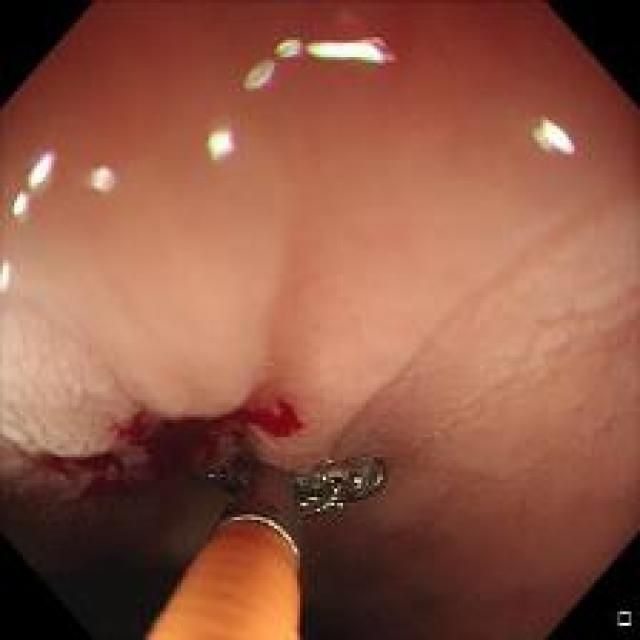color misalignment: (292, 34, 406, 62), (531, 115, 579, 160), (240, 60, 275, 98), (85, 160, 119, 192), (204, 122, 232, 158), (28, 149, 56, 184), (269, 34, 300, 62), (10, 189, 34, 221), (1, 258, 16, 292), (612, 604, 630, 631)
contrast: (12, 448, 418, 636)
instrument: (160, 440, 381, 630)
specularity: (288, 38, 386, 62), (541, 121, 574, 154), (88, 160, 112, 192), (28, 151, 54, 179), (210, 132, 240, 156), (12, 192, 29, 221), (2, 255, 10, 291)
